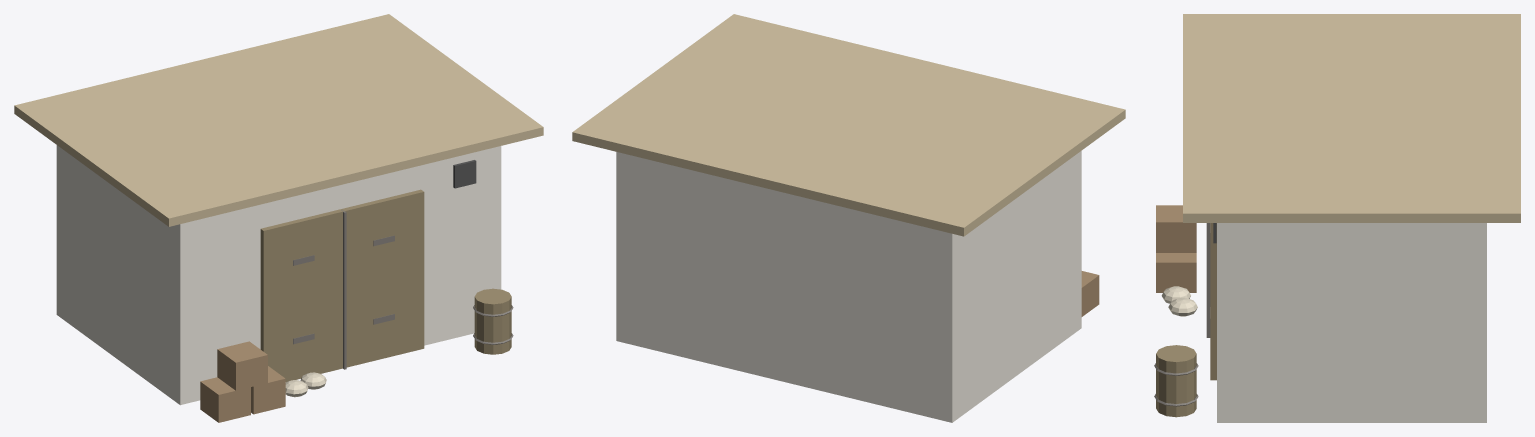
File: Warehouse_Steppe.fbx
The picture shows the model from 3 angles, left to right: view 1: azimuth 30°, elevation 25°; view 2: azimuth 150°, elevation 25°; view 3: azimuth 270°, elevation 25°; orthographic projection. The views are drawn at different scales.
Visible parts, largest first — view 1: Warehouse_Steppe_Mesh; view 2: Warehouse_Steppe_Mesh; view 3: Warehouse_Steppe_Mesh.
Boxes of the visible parts, box(x1,y1,x2,y2) form: Warehouse_Steppe_Mesh: box(14, 14, 543, 422); Warehouse_Steppe_Mesh: box(572, 14, 1125, 422); Warehouse_Steppe_Mesh: box(1154, 14, 1520, 422).
Size of the model in its own units: 7 by 3.65 by 5.43.
